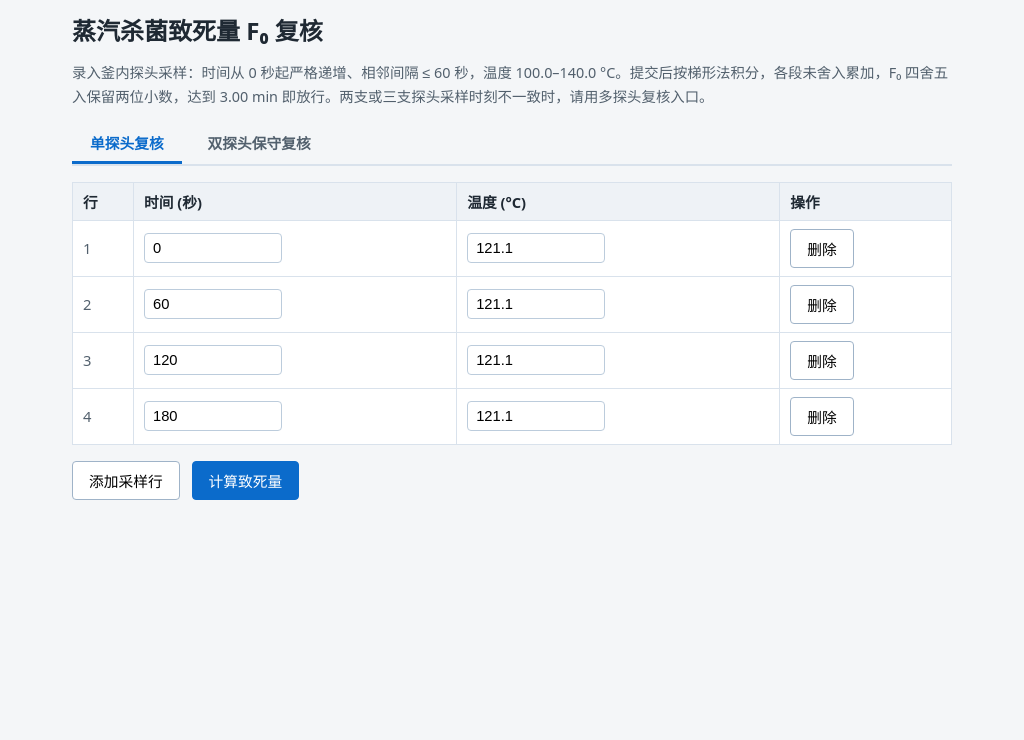
双探头失败隔离 › 跨探头结束时刻不一致时展示整体错误
The width and height of the screenshot is (1024, 740).
What coordinates should you click on to do the following:
click the tab "双探头保守复核"
I would click on:
 (259, 144)
Its box is [190,124,329,164].
(page scrolled)
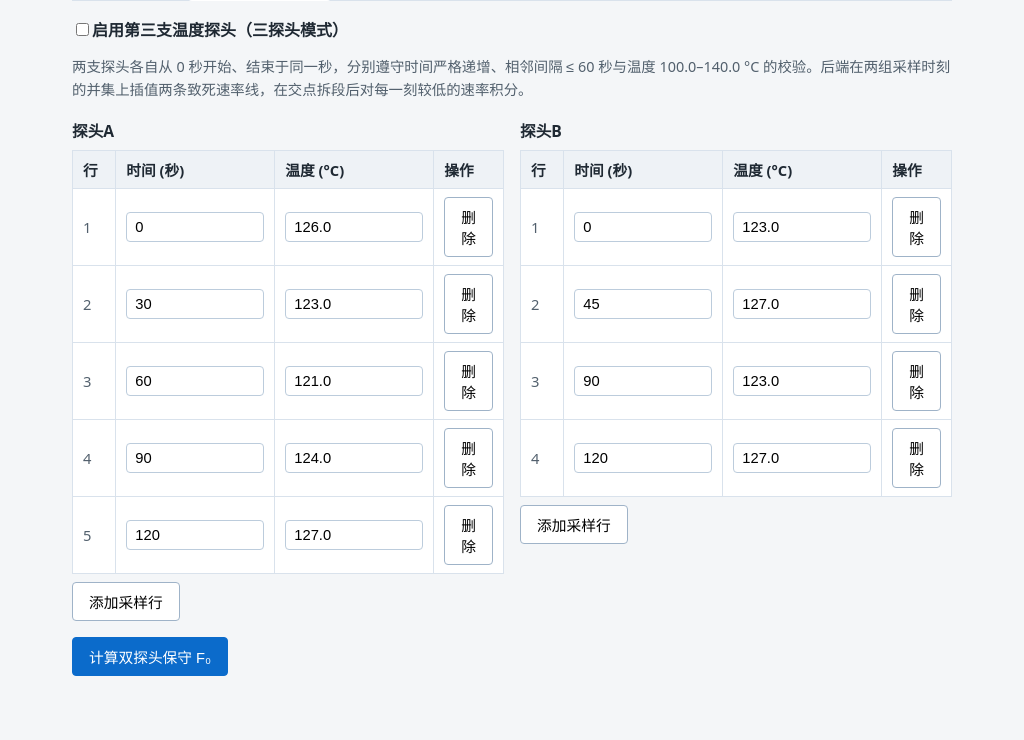
What coordinates should you click on to do the following:
click the button with test id "dual-submit"
I would click on:
 (150, 657)
Its box is [72,637,228,676].
(page scrolled)
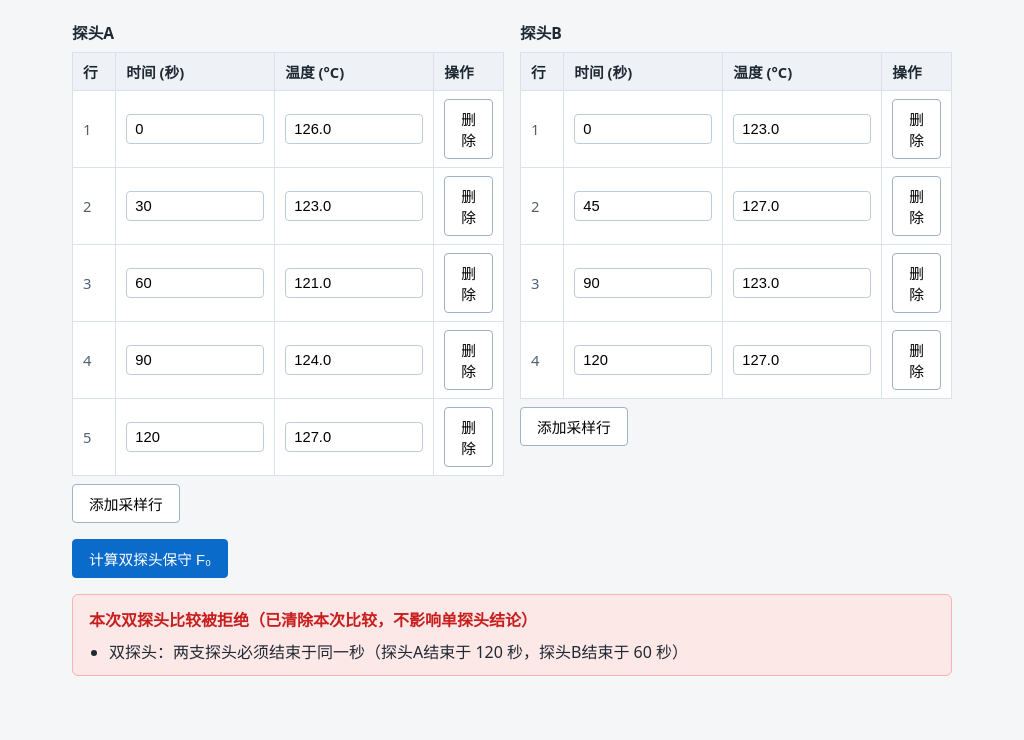
Check: the message shows "两支探头必须结束于同一秒", box [173,641,688,663]
